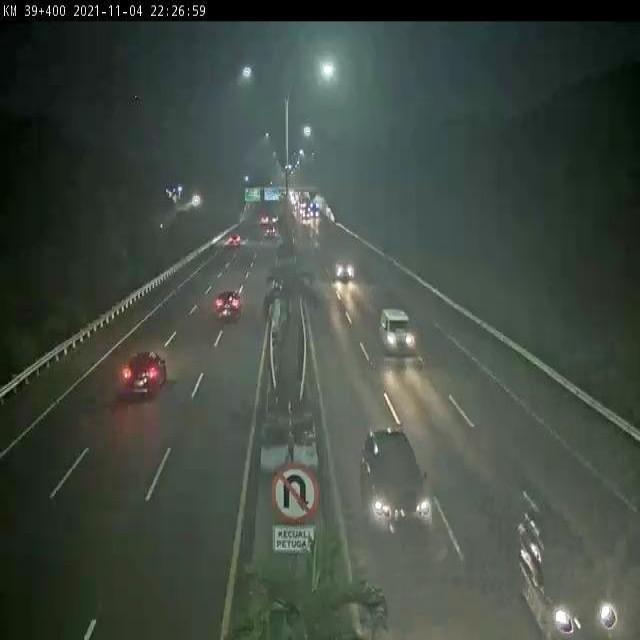car: (357, 427, 436, 533), (121, 347, 168, 400), (378, 306, 415, 354), (212, 289, 244, 324)
